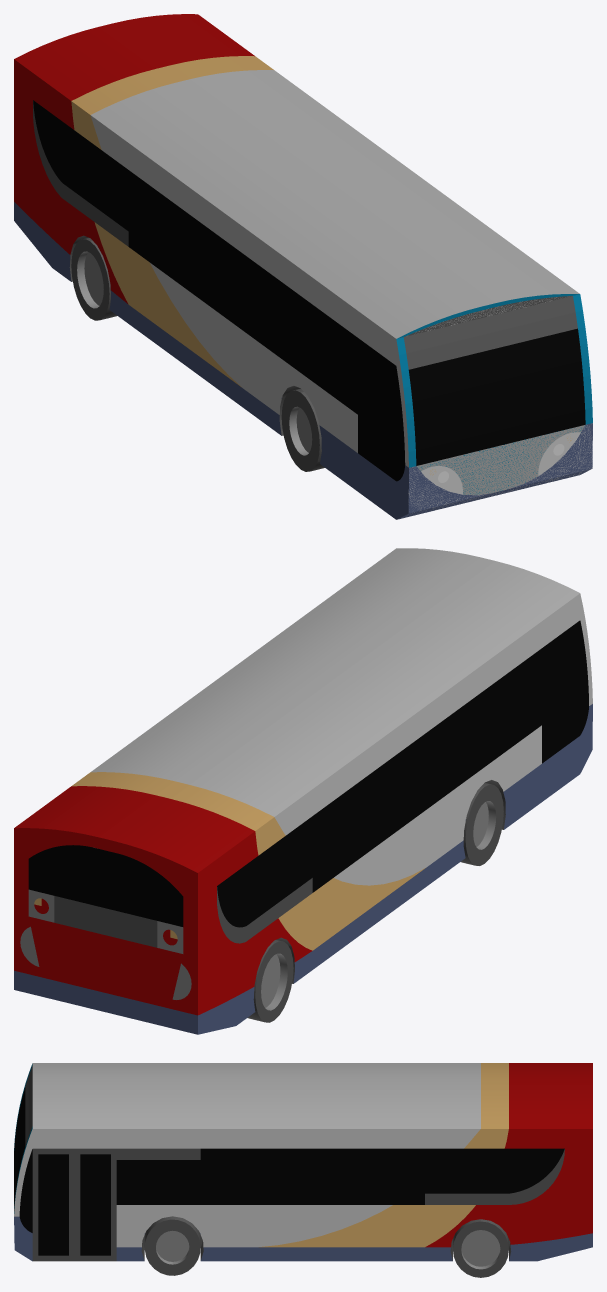
Rendered from dennis-enviro300.dae.
The picture shows the model from 3 angles, top to bottom: view 1: azimuth 30°, elevation 25°; view 2: azimuth 150°, elevation 25°; view 3: azimuth 270°, elevation 25°; orthographic projection. The views are drawn at different scales.
Parts seen in each view (by area): view 1: SketchUp_052, SketchUp_006, SketchUp_008, SketchUp_031, SketchUp_043, SketchUp_001, SketchUp_007, SketchUp_039, SketchUp_037, SketchUp_038, SketchUp_009, SketchUp_005 (+13 smaller); view 2: SketchUp_052, SketchUp_006, SketchUp_043, SketchUp_031, SketchUp_053, SketchUp_039, SketchUp_044, SketchUp_037, SketchUp_038, SketchUp_005, SketchUp_033, SketchUp (+9 smaller); view 3: SketchUp_052, SketchUp_027, SketchUp, SketchUp_043, SketchUp_031, SketchUp_028, SketchUp_047, SketchUp_046, SketchUp_030, SketchUp_045, SketchUp_022, SketchUp_026 (+13 smaller).
Boxes of the visible parts, x1=… form: SketchUp_052: x1=91, y1=70, x2=579, y2=338; SketchUp_006: x1=33, y1=100, x2=405, y2=481; SketchUp_008: x1=408, y1=328, x2=585, y2=465; SketchUp_031: x1=14, y1=14, x2=254, y2=100; SketchUp_043: x1=14, y1=59, x2=128, y2=304; SketchUp_001: x1=319, y1=423, x2=592, y2=519; SketchUp_007: x1=403, y1=296, x2=577, y2=369; SketchUp_039: x1=90, y1=115, x2=281, y2=281; SketchUp_037: x1=149, y1=262, x2=281, y2=396; SketchUp_038: x1=94, y1=222, x2=241, y2=387; SketchUp_009: x1=416, y1=425, x2=585, y2=495; SketchUp_005: x1=281, y1=255, x2=408, y2=467; SketchUp_052: x1=91, y1=548, x2=579, y2=816; SketchUp_006: x1=217, y1=620, x2=588, y2=927; SketchUp_043: x1=14, y1=828, x2=312, y2=1015; SketchUp_031: x1=14, y1=786, x2=254, y2=872; SketchUp_053: x1=28, y1=845, x2=183, y2=926; SketchUp_039: x1=274, y1=677, x2=465, y2=835; SketchUp_044: x1=14, y1=970, x2=255, y2=1034; SketchUp_037: x1=334, y1=781, x2=465, y2=885; SketchUp_038: x1=278, y1=868, x2=425, y2=950; SketchUp_005: x1=465, y1=593, x2=592, y2=705; SketchUp_033: x1=71, y1=772, x2=273, y2=830; SketchUp: x1=247, y1=780, x2=505, y2=1022; SketchUp_052: x1=32, y1=1063, x2=480, y2=1128; SketchUp_027: x1=116, y1=1148, x2=564, y2=1204; SketchUp: x1=32, y1=1148, x2=511, y2=1277; SketchUp_043: x1=425, y1=1129, x2=592, y2=1247; SketchUp_031: x1=509, y1=1063, x2=592, y2=1128; SketchUp_028: x1=14, y1=1129, x2=256, y2=1216; SketchUp_047: x1=259, y1=1205, x2=475, y2=1247; SketchUp_046: x1=200, y1=1205, x2=392, y2=1233; SketchUp_030: x1=256, y1=1129, x2=480, y2=1148; SketchUp_045: x1=201, y1=1247, x2=452, y2=1261; SketchUp_022: x1=80, y1=1154, x2=110, y2=1255; SketchUp_026: x1=38, y1=1154, x2=68, y2=1255.
Size of the model in its own units: 1.93 by 7.18 by 2.15.
